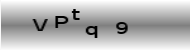9: (114, 21, 130, 35)
P: (53, 15, 69, 29)
V: (32, 18, 49, 32)
q: (85, 25, 99, 38)
t: (70, 8, 81, 21)
